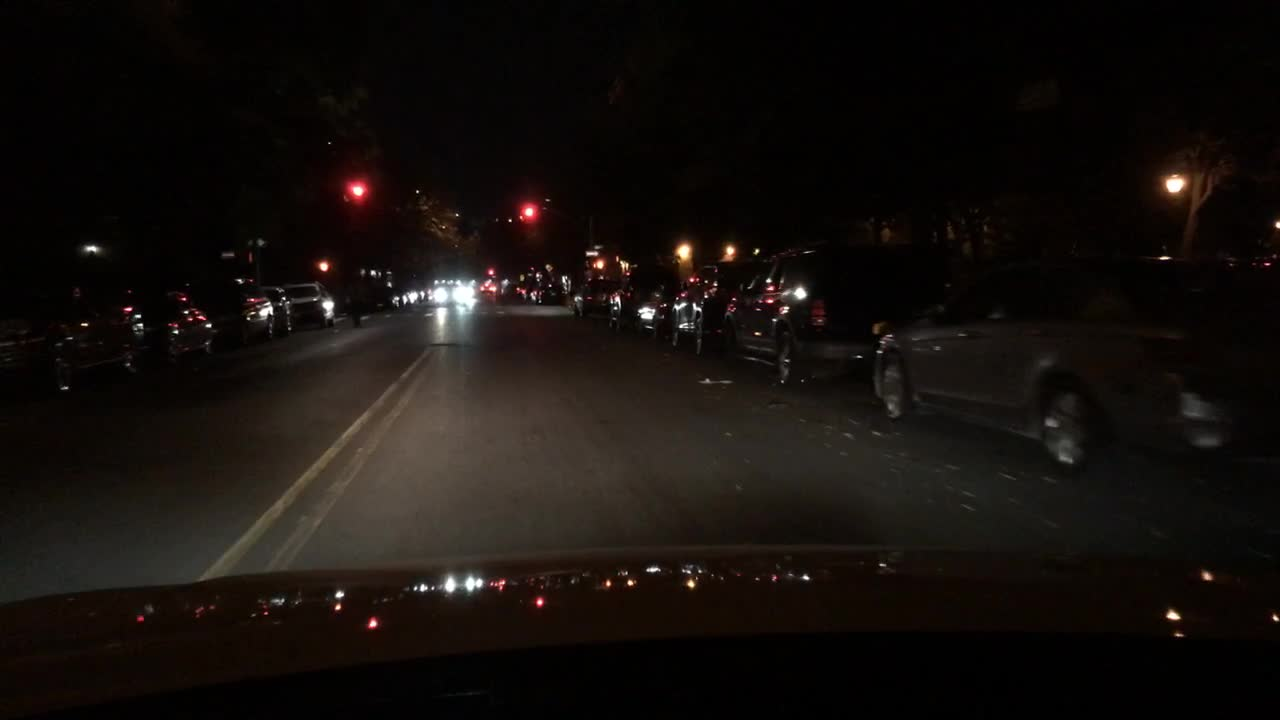car: (867, 249, 1278, 467), (719, 241, 937, 390), (0, 278, 145, 395), (667, 257, 749, 354), (189, 282, 277, 344), (143, 289, 213, 365), (602, 278, 655, 330), (282, 281, 336, 332), (632, 278, 674, 341), (571, 274, 616, 327), (259, 284, 298, 339), (360, 287, 399, 312), (435, 280, 472, 306), (531, 281, 567, 305), (497, 278, 524, 297), (393, 288, 414, 308), (408, 283, 430, 300), (511, 280, 531, 296), (479, 279, 496, 293)
traffic light: (352, 176, 363, 199), (519, 200, 532, 218), (591, 261, 606, 270)
traffic sign: (219, 250, 234, 258), (583, 250, 599, 257), (592, 242, 604, 247)
